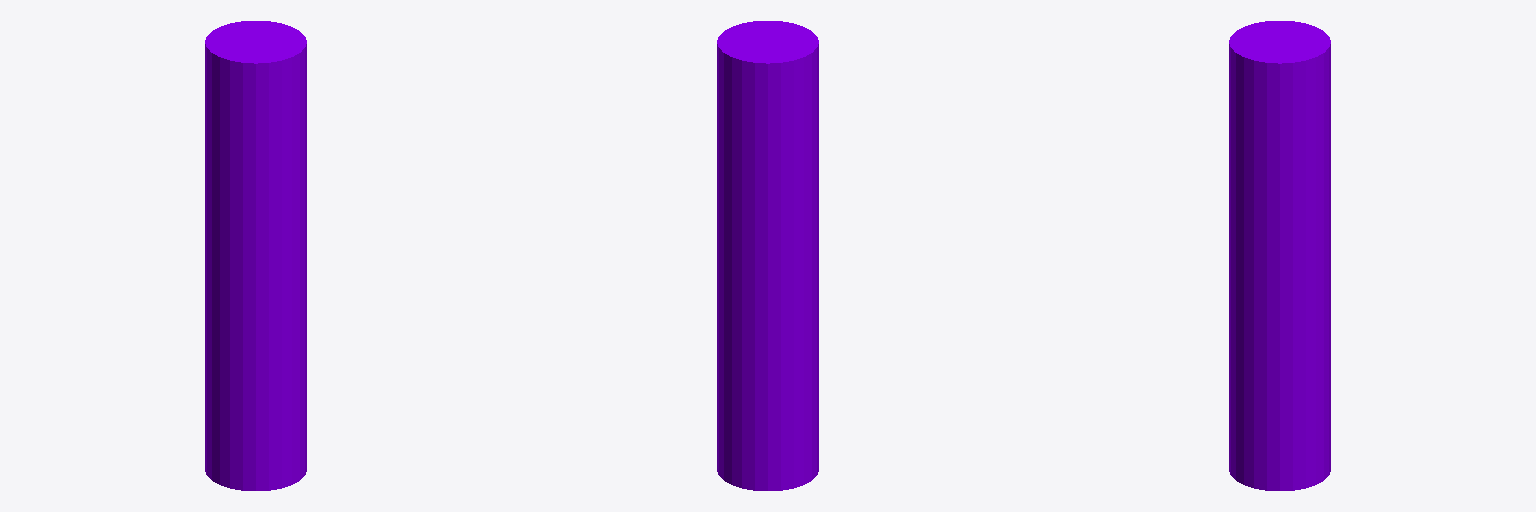
URDF robot description (Small_Long_Circle_Purple):
<?xml version="1.0"?>
<robot name="Small_Long_Circle_Purple">
    <link name="Small_Long_Circle_Purple">
        <visual>
            <geometry>
                <mesh filename="../mesh/factory_insertion/Small_Long_Circle_Purple.obj" scale="0.001 0.001 0.001"/>
            </geometry>
            <material name="Purple">
              <color rgba="0.6 0.0 1.0 0.0"/>
            </material>
        </visual>
        <collision>
            <geometry>
                <mesh filename="../mesh/factory_insertion/Small_Long_Circle_Purple.obj" scale="0.001 0.001 0.001"/>
            </geometry>
            <sdf resolution="512"/>
        </collision>
    </link>
</robot>

--- Facts derived from the render (not from the file) ---
The picture shows the robot from 3 angles, left to right: view 1: azimuth 30°, elevation 25°; view 2: azimuth 150°, elevation 25°; view 3: azimuth 270°, elevation 25°; orthographic projection.
Robot: Small_Long_Circle_Purple — 1 links, 0 joints (none); root link Small_Long_Circle_Purple; default pose: all joints at 0.
Visible links, largest first — view 1: Small_Long_Circle_Purple; view 2: Small_Long_Circle_Purple; view 3: Small_Long_Circle_Purple.
Boxes of the visible links, <box> form: Small_Long_Circle_Purple: <box>205,21,306,490</box>; Small_Long_Circle_Purple: <box>717,21,818,490</box>; Small_Long_Circle_Purple: <box>1229,21,1330,490</box>.
Bounding box of the posed robot: 0.0324 × 0.0324 × 0.15 m (x, y, z).
1 mesh visuals loaded from 1 distinct referenced files (1 OBJ).
